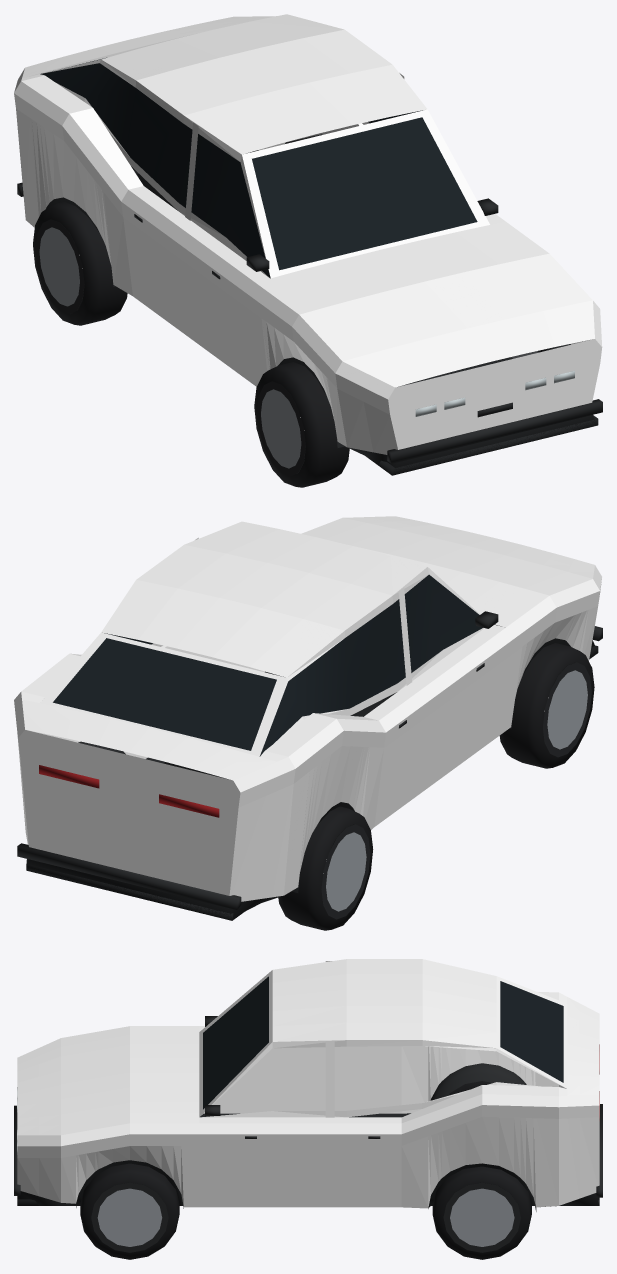
The model's file is hayase_desfiladeiro.glb.
3 renders of one model, top to bottom at view 1: azimuth 30°, elevation 25°; view 2: azimuth 150°, elevation 25°; view 3: azimuth 270°, elevation 25°, orthographic. The views are drawn at different scales.
Visible parts, largest first — view 1: Body_Paint, Body_Details, Mount_FrontLeft_Wheel_Details, Mount_RearLeft_Wheel_Details; view 2: Body_Paint, Body_Details, Mount_FrontLeft_Wheel_Details, Mount_RearLeft_Wheel_Details; view 3: Body_Paint, Body_Details, Mount_FrontRight_Wheel_Details, Mount_RearRight_Wheel_Details.
Boxes of the visible parts, x1=… form: Body_Paint: x1=14, y1=14, x2=602, y2=454; Body_Details: x1=17, y1=57, x2=602, y2=475; Mount_FrontLeft_Wheel_Details: x1=254, y1=362, x2=349, y2=487; Mount_RearLeft_Wheel_Details: x1=33, y1=202, x2=127, y2=325; Body_Paint: x1=14, y1=516, x2=601, y2=901; Body_Details: x1=17, y1=574, x2=602, y2=920; Mount_FrontLeft_Wheel_Details: x1=499, y1=643, x2=594, y2=768; Mount_RearLeft_Wheel_Details: x1=278, y1=806, x2=373, y2=930; Body_Paint: x1=17, y1=959, x2=599, y2=1208; Body_Details: x1=14, y1=976, x2=602, y2=1211; Mount_FrontRight_Wheel_Details: x1=80, y1=1163, x2=179, y2=1259; Mount_RearRight_Wheel_Details: x1=432, y1=1166, x2=531, y2=1259.
Bounding box in the file's own units: 2.2 × 1.93 × 4.91.
2 materials, 1 textured.
